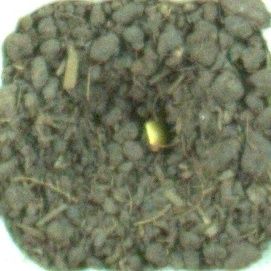chilli seed: (141, 118, 171, 152)
